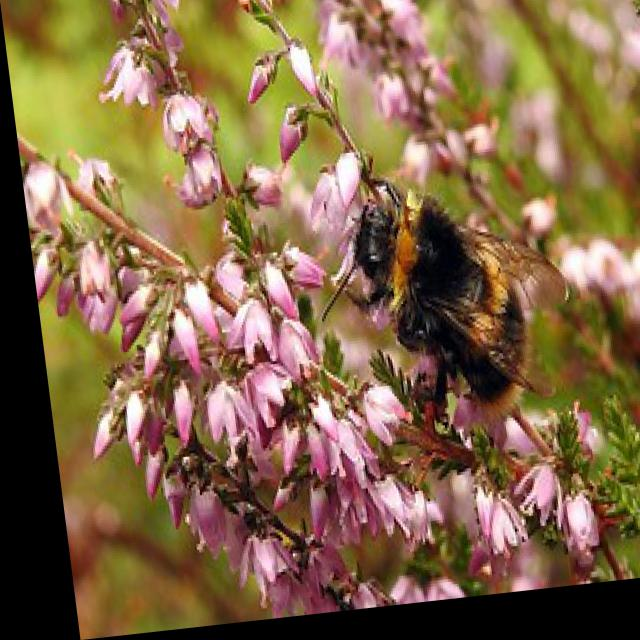Abeille: (309, 146, 579, 446)
